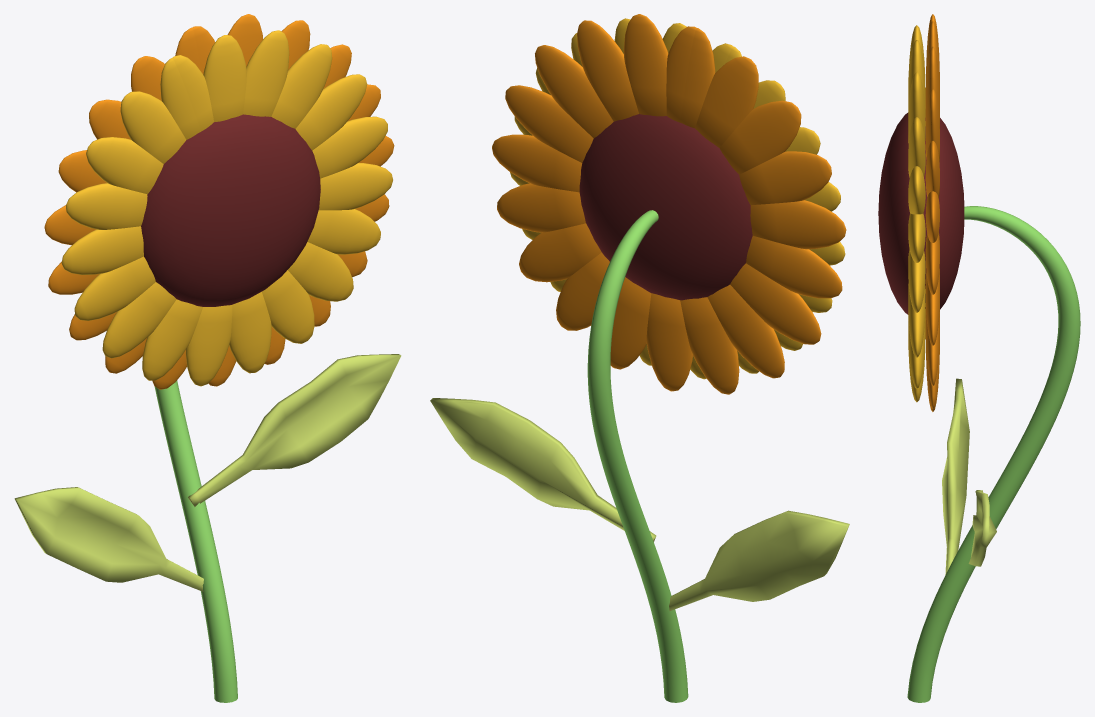
The model's file is SunFlower.fbx.
3 renders of one model, left to right at view 1: azimuth 30°, elevation 25°; view 2: azimuth 150°, elevation 25°; view 3: azimuth 270°, elevation 25°, orthographic. The views are drawn at different scales.
Parts seen in each view (by area): view 1: Sunflower_United; view 2: Sunflower_United; view 3: Sunflower_United.
Boxes of the visible parts, bbox=[...] form: Sunflower_United: bbox=[14, 14, 401, 702]; Sunflower_United: bbox=[430, 14, 849, 702]; Sunflower_United: bbox=[878, 14, 1080, 702].
Size of the model in its own units: 37.86 by 61.26 by 16.9.
